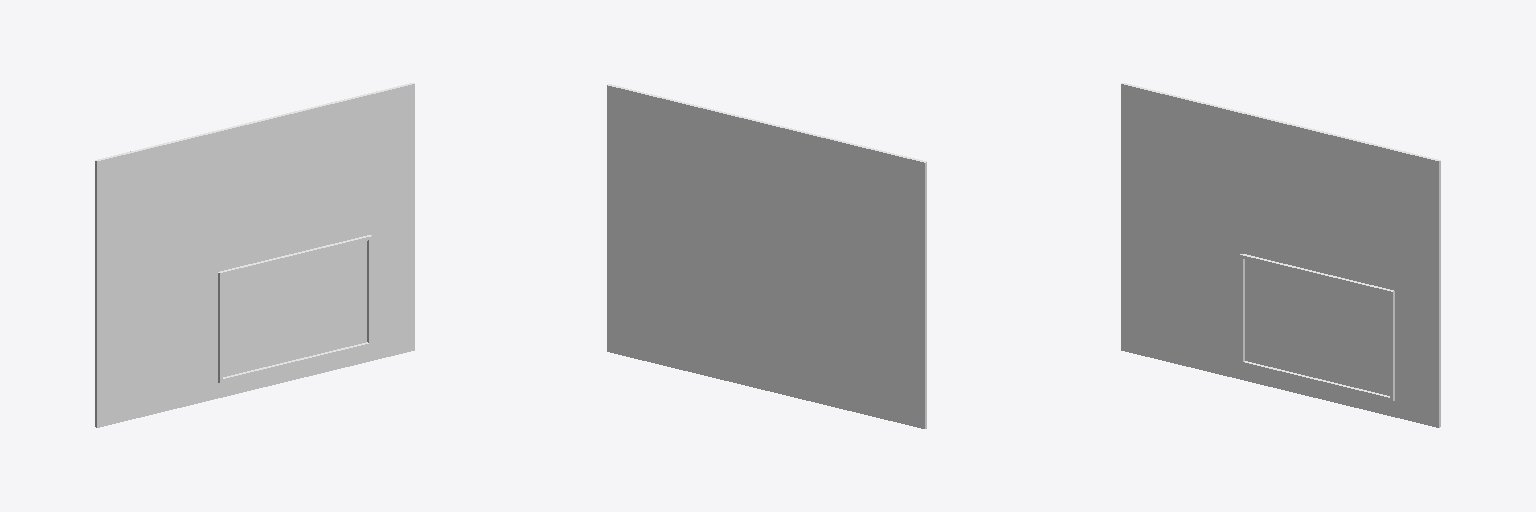
File: stageBackdrop.obj
3 renders of one model, left to right at view 1: azimuth 30°, elevation 25°; view 2: azimuth 150°, elevation 25°; view 3: azimuth 330°, elevation 25°, orthographic.
Visible parts, largest first — view 1: object 1; view 2: object 1; view 3: object 1.
Part boxes in pixels (x1,y1,x2,y2): object 1: (95, 83, 414, 427); object 1: (607, 84, 926, 428); object 1: (1121, 83, 1440, 427).
Size of the model in its own units: 10 by 8 by 0.2.